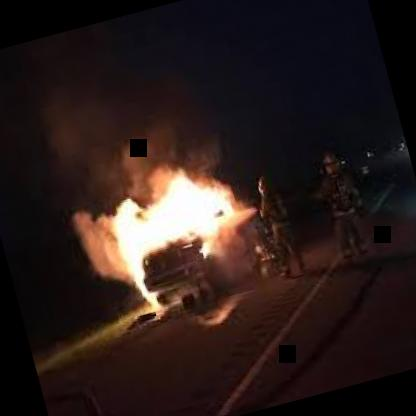fire: (80, 140, 280, 326)
